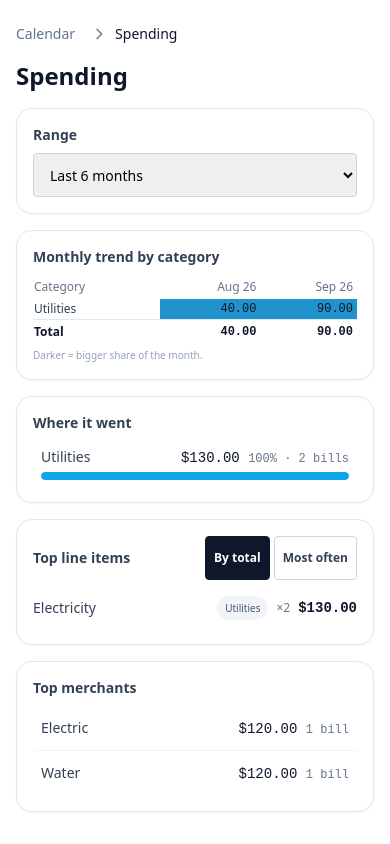
Test case: Spending page (#032) › expands a category into its bills on tap and closes again
This screenshot has width=390, height=844.
Click the button "Utilities $130.00 100% · 2 bills" at x=195, y=464, box [33,441,357,486]
(page scrolled)
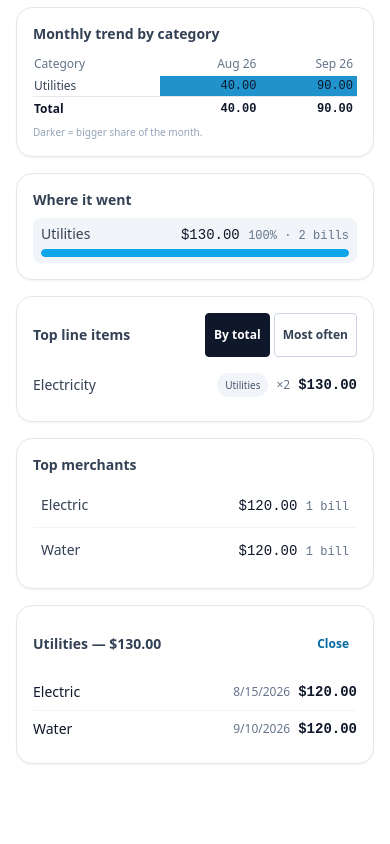
Expected: the text "Electric" below "Top merchants" is shown, [41,494,88,514]
Expected: the heading "Utilities — $130.00" is shown, [33,634,161,654]
Click the button "Close" at x=333, y=644, box [309,622,357,666]
(page scrolled)
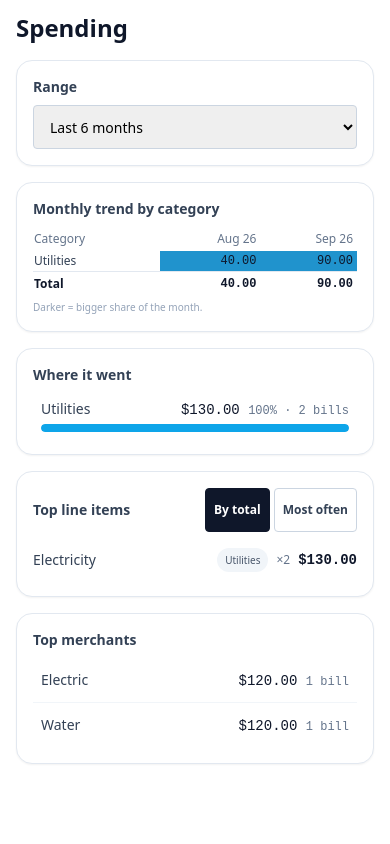
Expected: the heading "Utilities — $130.00" is gone
